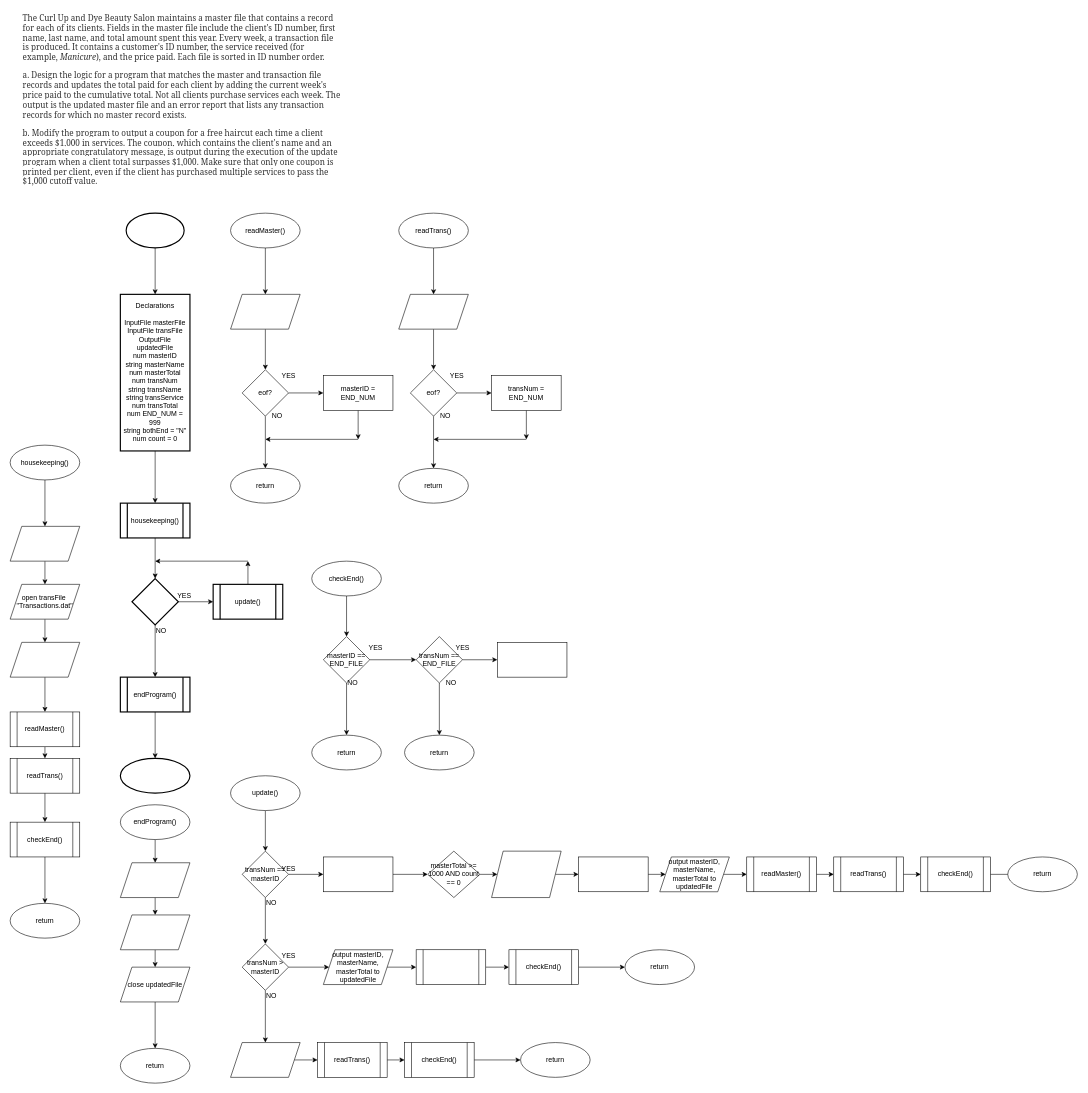
The diagram is 1088 pixels wide and 1093 high, and some of its shapes have lost their labels. The centre of each missing label's shape, as x and y in pixels:
bothEnd <> "Y": point (155, 601)
bothEnd = "Y": point (532, 659)
close masterFile: point (155, 880)
close transFile: point (155, 932)
input masterID, masterName, masterTotal from masterFile: point (265, 311)
input transNum, transName, transTotal from transFile: point (433, 311)
masterTotal += transTotal: point (358, 874)
open masterFile "Clients.dat": point (45, 543)
open updatedFile "UpdatedClients.dat": point (45, 659)
output "Congratulations ", masterName, "you've earned a free haircut!": point (526, 874)
output "No master record for transaction ", transNum: point (265, 1059)
readMasterID: point (451, 967)
start: point (154, 230)
stop: point (154, 775)
